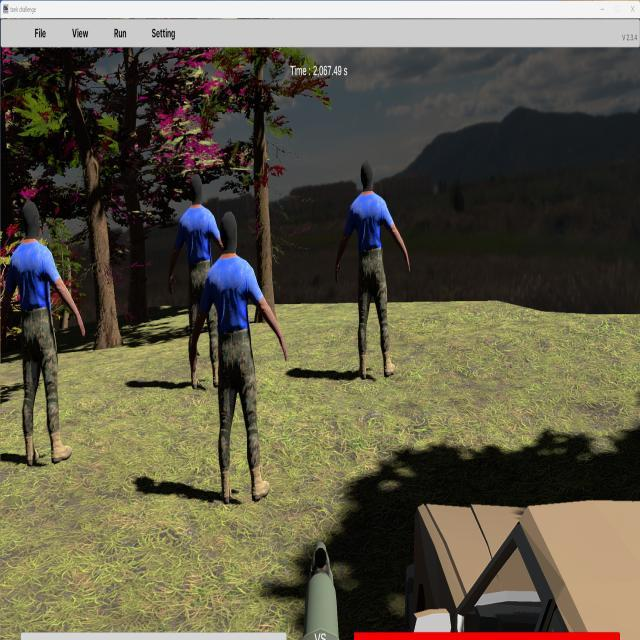Human: (188, 211, 288, 503), (189, 210, 288, 503), (0, 197, 86, 467), (335, 161, 411, 382), (167, 172, 231, 393)
